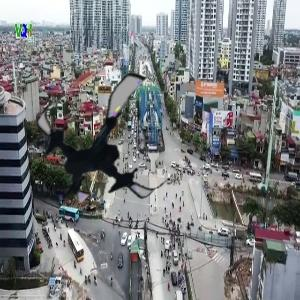drone: (32, 67, 183, 218)
